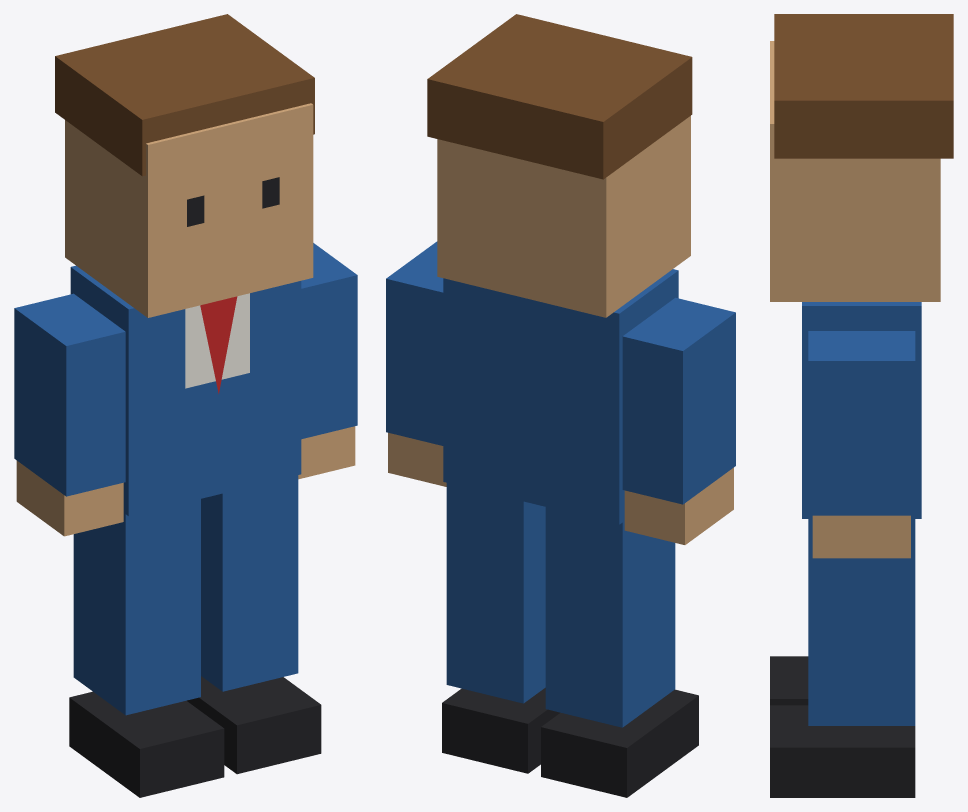
File: Empresario.fbx
The picture shows the model from 3 angles, left to right: view 1: azimuth 30°, elevation 25°; view 2: azimuth 150°, elevation 25°; view 3: azimuth 270°, elevation 25°; orthographic projection. The views are drawn at different scales.
Visible parts, largest first — view 1: Cabeza, Cuerpo, Cabello, Pantalon_L, Manga_L, Pantalon_R, Zapato_L, Manga_R, Zapato_R, Mano_L, Camisa, Mano_R (+1 smaller); view 2: Cuerpo, Cabeza, Cabello, Pantalon_L, Manga_L, Pantalon_R, Zapato_L, Manga_R, Zapato_R, Mano_L, Mano_R; view 3: Cabello, Cabeza, Manga_R, Pantalon_R, Zapato_R, Cuerpo, Mano_R, Zapato_L.
Boxes of the visible parts, box(x1,y1,x2,y2) form: Cabeza: box(65, 103, 313, 317); Cuerpo: box(70, 265, 301, 516); Cabello: box(55, 14, 314, 176); Pantalon_L: box(73, 499, 200, 715); Manga_L: box(14, 293, 125, 496); Pantalon_R: box(201, 475, 298, 691); Zapato_L: box(69, 691, 224, 797); Manga_R: box(301, 243, 357, 439); Zapato_R: box(187, 676, 321, 774); Mano_L: box(16, 460, 123, 536); Camisa: box(185, 293, 249, 388); Mano_R: box(298, 426, 355, 479); Cuerpo: box(443, 269, 678, 524); Cabeza: box(437, 116, 690, 317); Cabello: box(427, 14, 692, 179); Pantalon_L: box(545, 507, 675, 727); Manga_L: box(622, 297, 735, 504); Pantalon_R: box(446, 483, 545, 703); Zapato_L: box(541, 689, 698, 797); Manga_R: box(386, 241, 443, 445); Zapato_R: box(442, 687, 559, 773); Mano_L: box(624, 467, 733, 544); Mano_R: box(388, 432, 446, 486); Cabello: box(774, 14, 953, 158); Cabeza: box(770, 41, 940, 301); Manga_R: box(808, 331, 915, 515); Pantalon_R: box(808, 518, 915, 725); Zapato_R: box(770, 705, 915, 797); Cuerpo: box(802, 302, 921, 518); Mano_R: box(812, 515, 910, 558); Zapato_L: box(770, 656, 808, 705).
Size of the model in its own units: 0.81 by 1.8 by 0.443.
